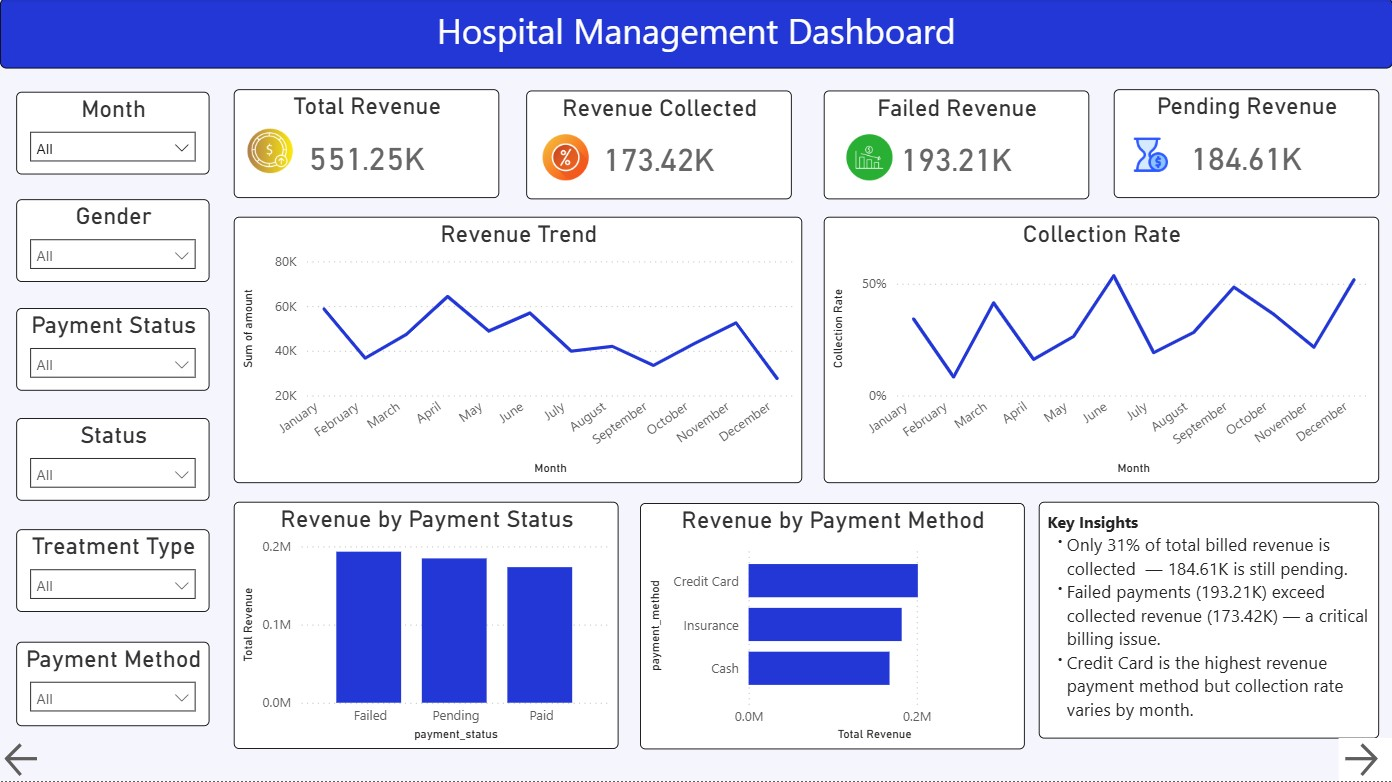

Layout of this report page (visuals, bound fields, positions):
{"tool":"powerbi","page":{"name":"Revenue","canvas":[1280,720],"ordinal":1},"visuals":[{"type":"textbox","box":[0,0,1280,65],"z":0},{"type":"card","title":"Total Revenue","fields":{"Values":["billing.Total Revenue"]},"box":[215,83.8,243.8,100],"z":1000},{"type":"card","title":"Failed Revenue","fields":{"Values":["appointments.Failed Revenue"]},"box":[757.5,85,243.8,100],"z":2000},{"type":"card","title":"Revenue Collected","fields":{"Values":["billing.Revenue Collected"]},"box":[483.8,85,243.8,100],"z":3000},{"type":"card","title":"Pending Revenue","fields":{"Values":["billing.Pending Revenue"]},"box":[1023.8,83.8,243.8,100],"z":4000},{"type":"lineChart","title":"Revenue Trend","fields":{"Y":["Sum(billing.amount)"],"Category":["billing.bill_date.Variation.Date Hierarchy.Year","billing.bill_date.Variation.Date Hierarchy.Quarter","billing.bill_date.Variation.Date Hierarchy.Month","billing.bill_date.Variation.Date Hierarchy.Day"]},"box":[215,201.2,522.5,245],"z":5000},{"type":"clusteredColumnChart","title":"Revenue by Payment Status","fields":{"Y":["billing.Total Revenue"],"Category":["billing.payment_status"]},"box":[215,462.5,353.8,227.5],"z":6000},{"type":"slicer","title":"Status","fields":{"Values":["appointments.status"]},"box":[15,386.2,177.5,76.2],"z":7000},{"type":"slicer","title":"Month","fields":{"Values":["billing.Month"]},"box":[15,86.2,177.5,76.2],"z":8000},{"type":"slicer","title":"Payment Status","fields":{"Values":["billing.payment_status"]},"box":[15,285,177.5,76.2],"z":9000},{"type":"slicer","title":"Payment Method","fields":{"Values":["billing.payment_method"]},"box":[15,591.2,177.5,77.5],"z":10000},{"type":"slicer","title":"Treatment Type","fields":{"Values":["treatments.treatment_type"]},"box":[15,488.8,177.5,76.2],"z":11000},{"type":"slicer","title":"Gender","fields":{"Values":["patients.gender"]},"box":[15,185,177.5,76.2],"z":12000},{"type":"clusteredBarChart","title":"Revenue by Payment Method","fields":{"Category":["billing.payment_method"],"Y":["billing.Total Revenue"]},"box":[588.4,464,353.5,226.7],"z":13000},{"type":"image","box":[227.5,113.8,41.2,53.8],"z":14000},{"type":"image","box":[1040,125,36.2,37.5],"z":15000},{"type":"image","box":[775,125,47.5,42.5],"z":16000},{"type":"image","box":[496.2,125,47.5,42.5],"z":17000},{"type":"lineChart","title":"Collection Rate","fields":{"Y":["billing.Collection Rate"],"Category":["billing.bill_date.Variation.Date Hierarchy.Year","billing.bill_date.Variation.Date Hierarchy.Quarter","billing.bill_date.Variation.Date Hierarchy.Month","billing.bill_date.Variation.Date Hierarchy.Day"]},"box":[757.5,201.2,510,245],"z":18000},{"type":"textbox","box":[954.7,462.8,312.8,217.4],"z":19000},{"type":"actionButton","box":[1230,680,50,40],"z":20000},{"type":"actionButton","box":[0,680,48.8,40],"z":22000}]}

Visuals, with their boxes in screenshot pixels (x1, y1, x2, y2), scaled from the page's 1280x720 canvas onto the 1392x782 screenshot:
textbox: left=0, top=0, right=1391, bottom=71
"Total Revenue" card: left=234, top=91, right=499, bottom=200
"Failed Revenue" card: left=824, top=92, right=1089, bottom=201
"Revenue Collected" card: left=526, top=92, right=791, bottom=201
"Pending Revenue" card: left=1113, top=91, right=1379, bottom=200
"Revenue Trend" lineChart: left=234, top=219, right=802, bottom=485
"Revenue by Payment Status" clusteredColumnChart: left=234, top=502, right=619, bottom=749
"Status" slicer: left=16, top=419, right=209, bottom=502
"Month" slicer: left=16, top=94, right=209, bottom=176
"Payment Status" slicer: left=16, top=310, right=209, bottom=392
"Payment Method" slicer: left=16, top=642, right=209, bottom=726
"Treatment Type" slicer: left=16, top=531, right=209, bottom=614
"Gender" slicer: left=16, top=201, right=209, bottom=284
"Revenue by Payment Method" clusteredBarChart: left=640, top=504, right=1024, bottom=750
image: left=247, top=124, right=292, bottom=182
image: left=1131, top=136, right=1170, bottom=176
image: left=843, top=136, right=894, bottom=182
image: left=540, top=136, right=591, bottom=182
"Collection Rate" lineChart: left=824, top=219, right=1378, bottom=485
textbox: left=1038, top=503, right=1378, bottom=739
actionButton: left=1338, top=739, right=1391, bottom=781
actionButton: left=0, top=739, right=53, bottom=781
